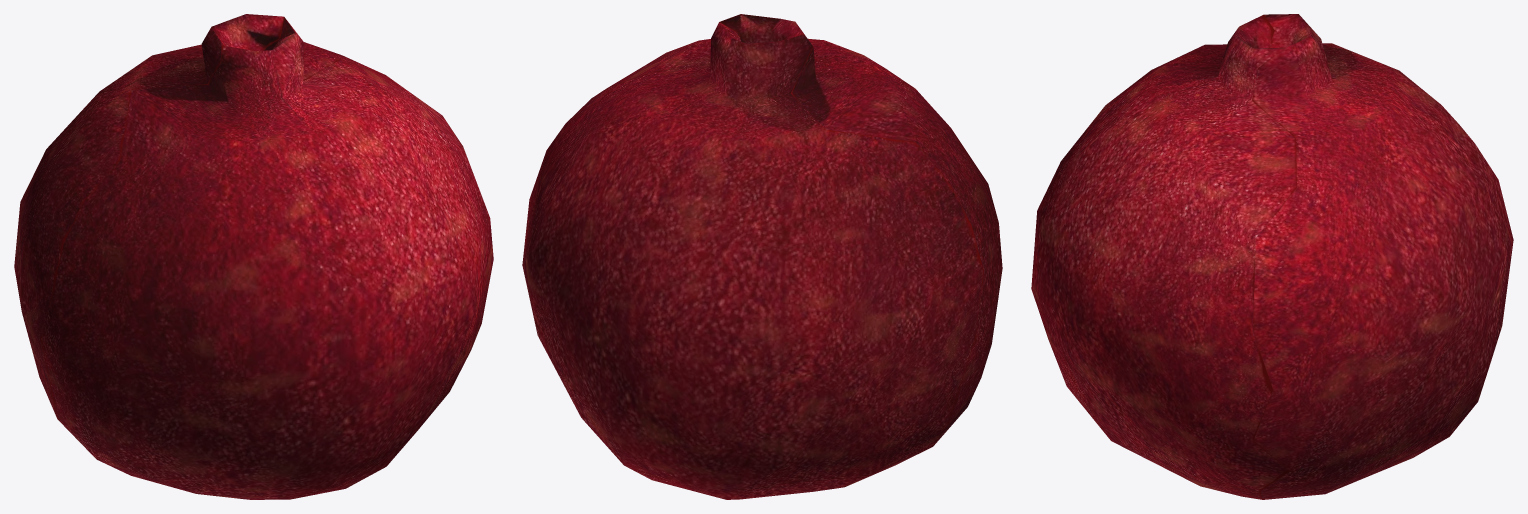
File: pomegranate.glb
3 views of the same model, side by side, from view 1: azimuth 30°, elevation 25°; view 2: azimuth 150°, elevation 25°; view 3: azimuth 270°, elevation 25° (orthographic).
Parts seen in each view (by area): view 1: Pom full flat; view 2: Pom full flat; view 3: Pom full flat.
Boxes of the visible parts, left/top/right/bottom form: Pom full flat: left=14, top=14, right=493, bottom=499; Pom full flat: left=522, top=14, right=1002, bottom=499; Pom full flat: left=1031, top=14, right=1513, bottom=499.
Bounding box in the file's own units: 210 × 211 × 207.
1 material, 1 textured.
